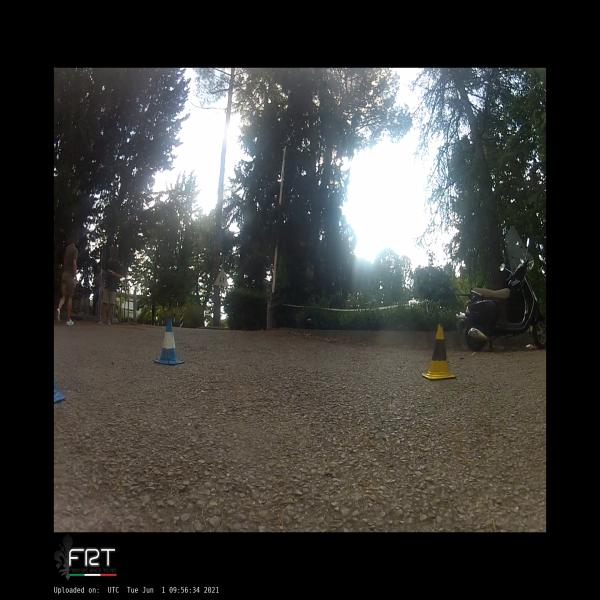blue_cone: (153, 319, 184, 365)
yellow_cone: (422, 324, 456, 380)
